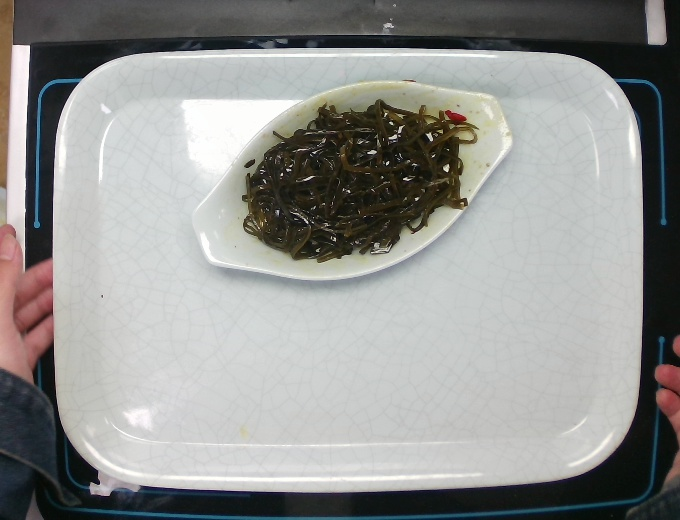JYsf-Yu_Pan: (170, 79, 532, 291)
